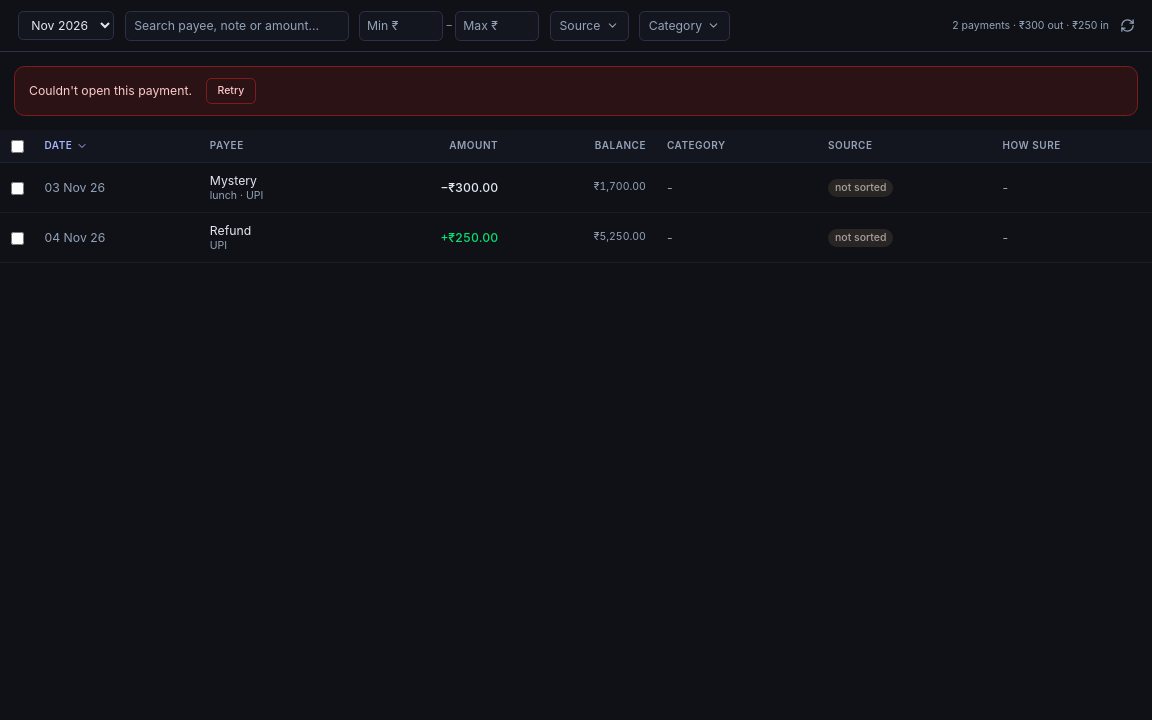
Test case: Transactions opened for one payment that fails to load › offers Retry for a server or network failure, and only a 404 says it may be gone
Expected: the message shows "Couldn't open this payment.", [29, 83, 192, 98]
Expected: the message does not show "removed", [14, 66, 1138, 116]
Click the button "Retry". click: [231, 91]
box: [206, 78, 256, 104]
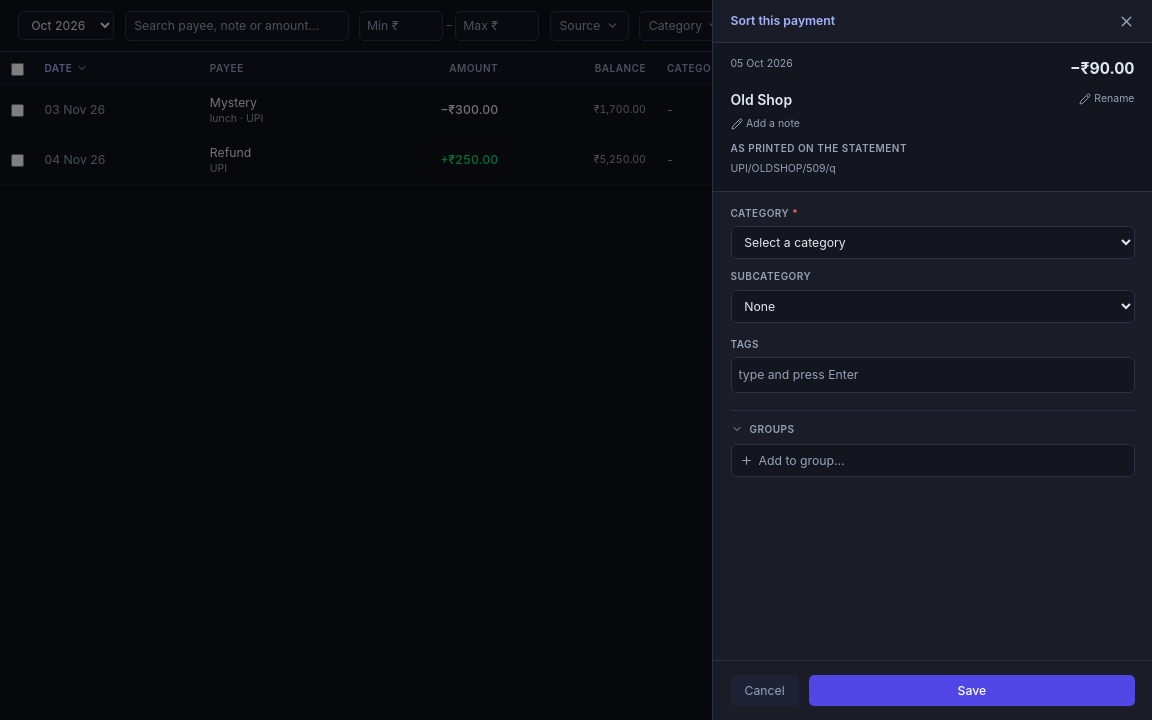
Expected: the text "UPI/OLDSHOP/509/q" is shown, [730, 162, 836, 174]
Expected: the text "Couldn't open this payment" is gone
